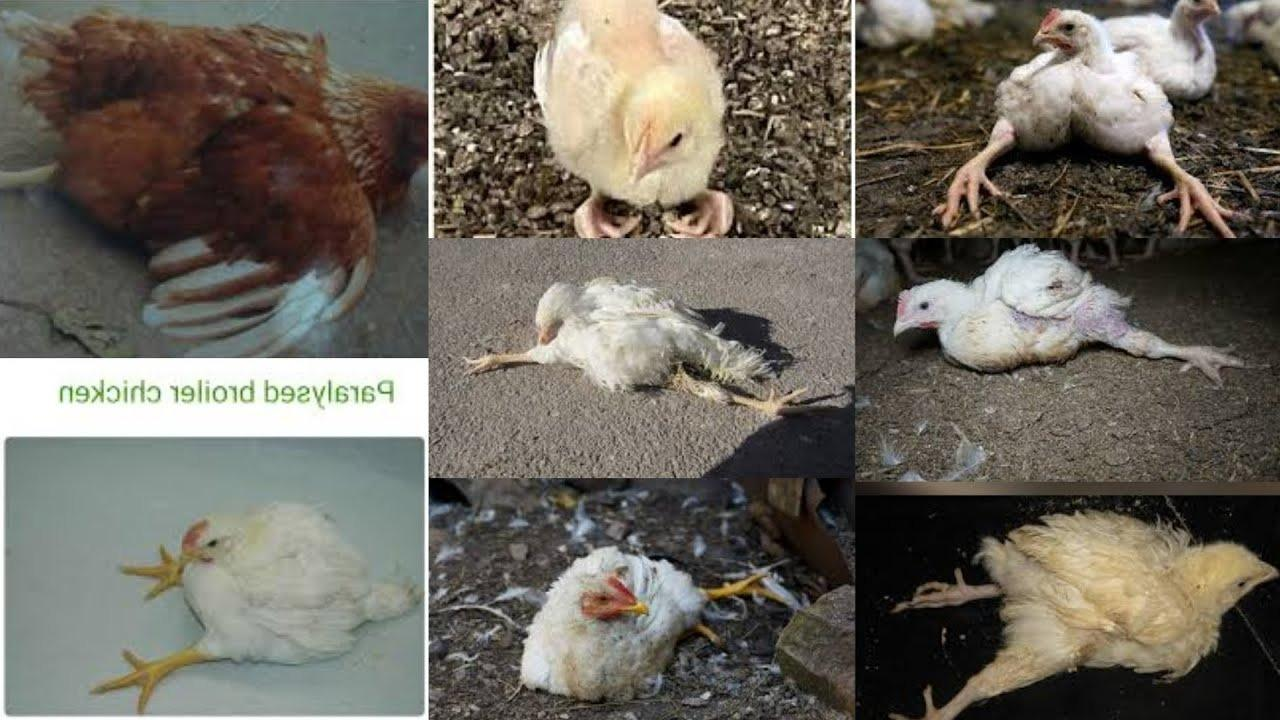AbNormal: (0, 0, 434, 356), (8, 438, 432, 720), (892, 244, 1280, 494), (446, 258, 854, 492), (894, 4, 1280, 236), (482, 4, 840, 238), (886, 508, 1280, 720), (496, 500, 814, 720)
